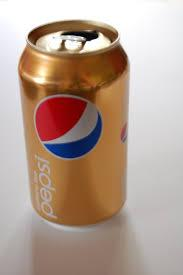Aluminum can: (21, 13, 136, 233)
